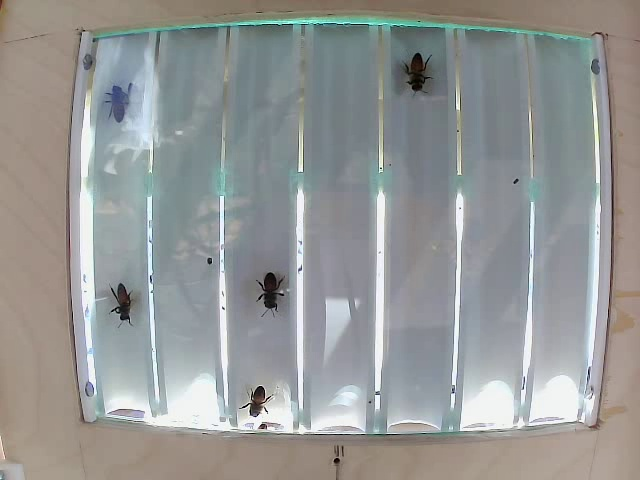bee: (96, 78, 166, 142), (397, 46, 445, 113), (254, 267, 302, 331), (103, 273, 146, 330), (238, 379, 290, 422)
